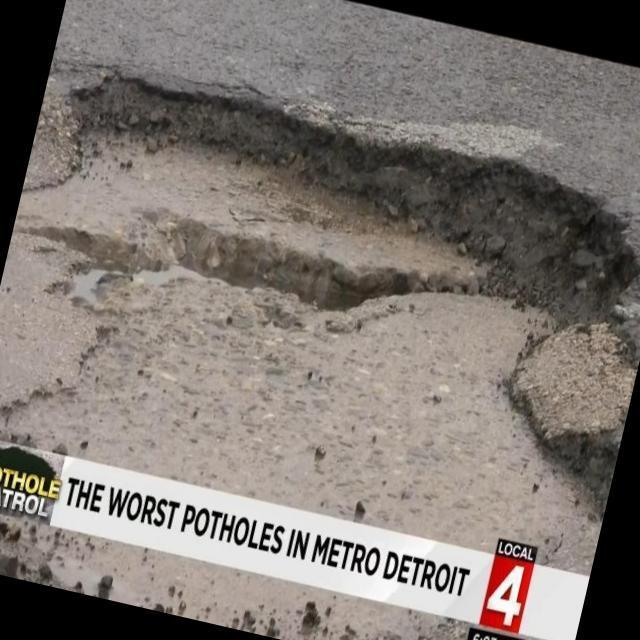Pothole: (3, 23, 640, 545)
